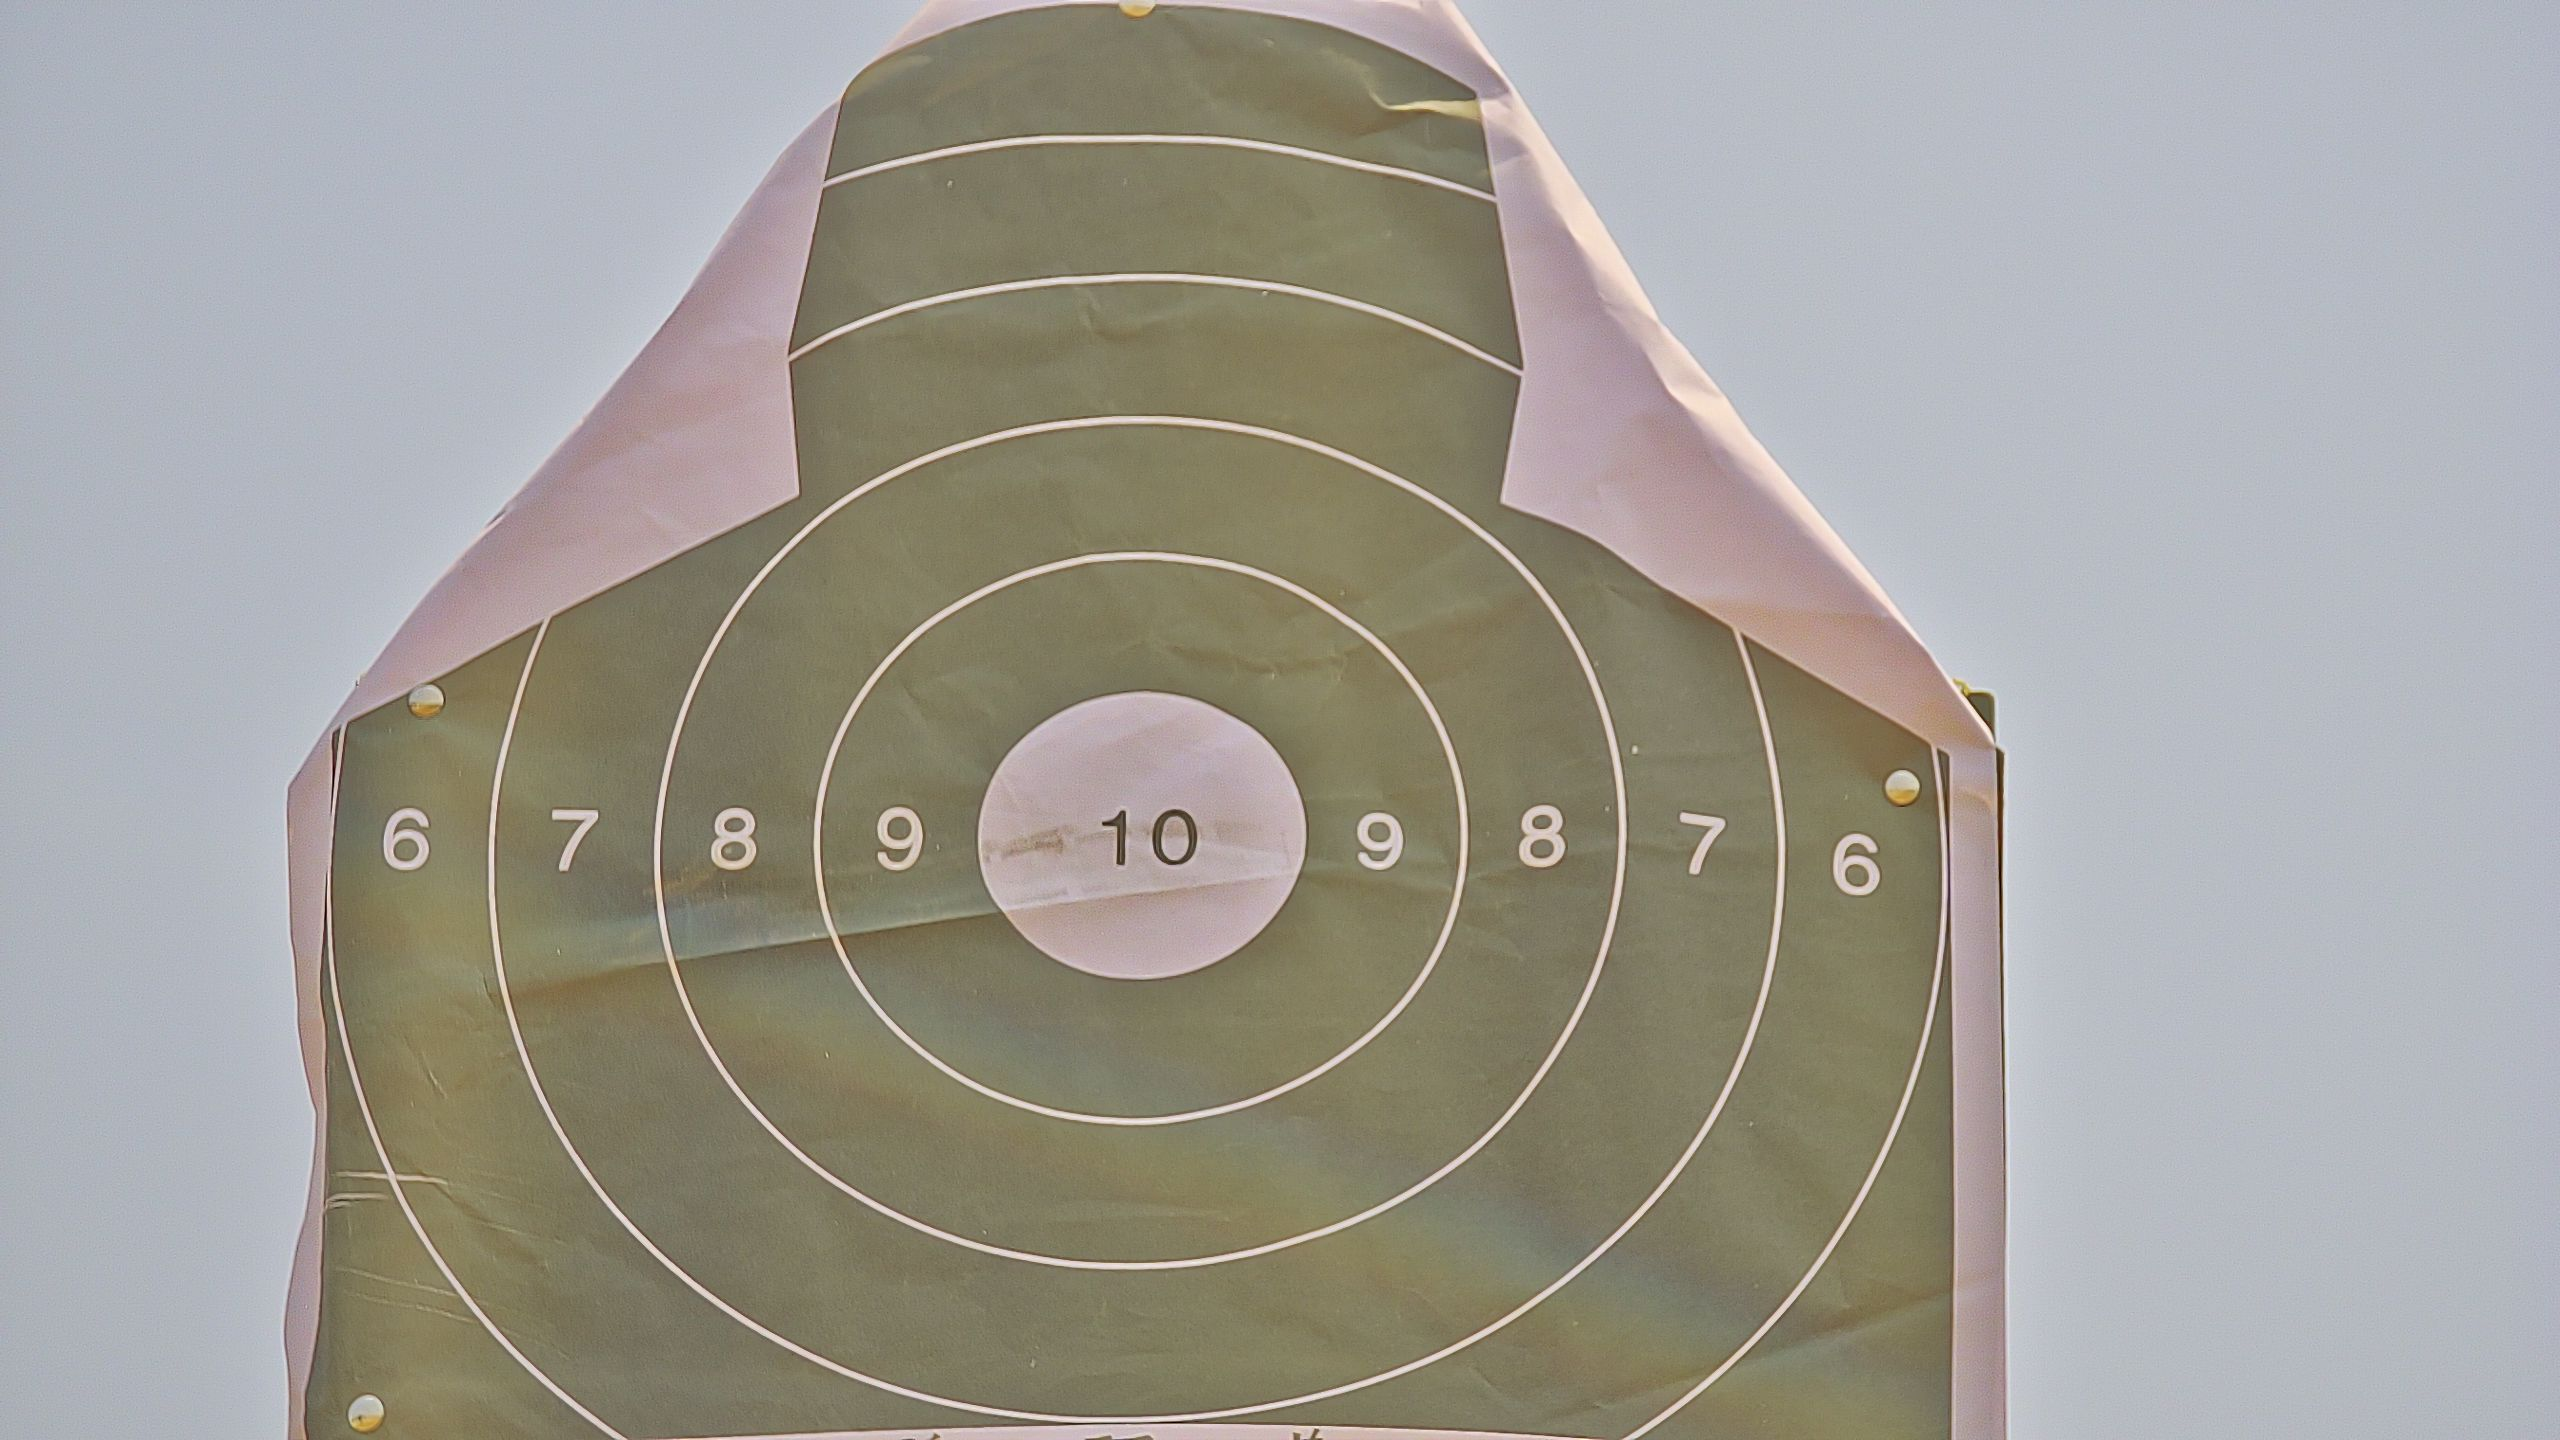kernel: (1139, 833, 1143, 839)
target: (320, 11, 1955, 1440)
ten: (976, 686, 1308, 985)
